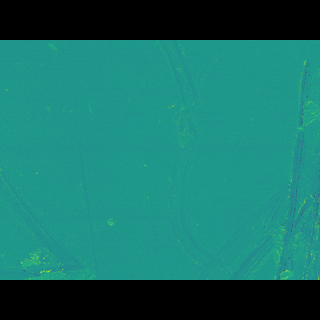Loch: (189, 82, 320, 251), (154, 69, 221, 243), (0, 160, 92, 250), (70, 116, 101, 248)
